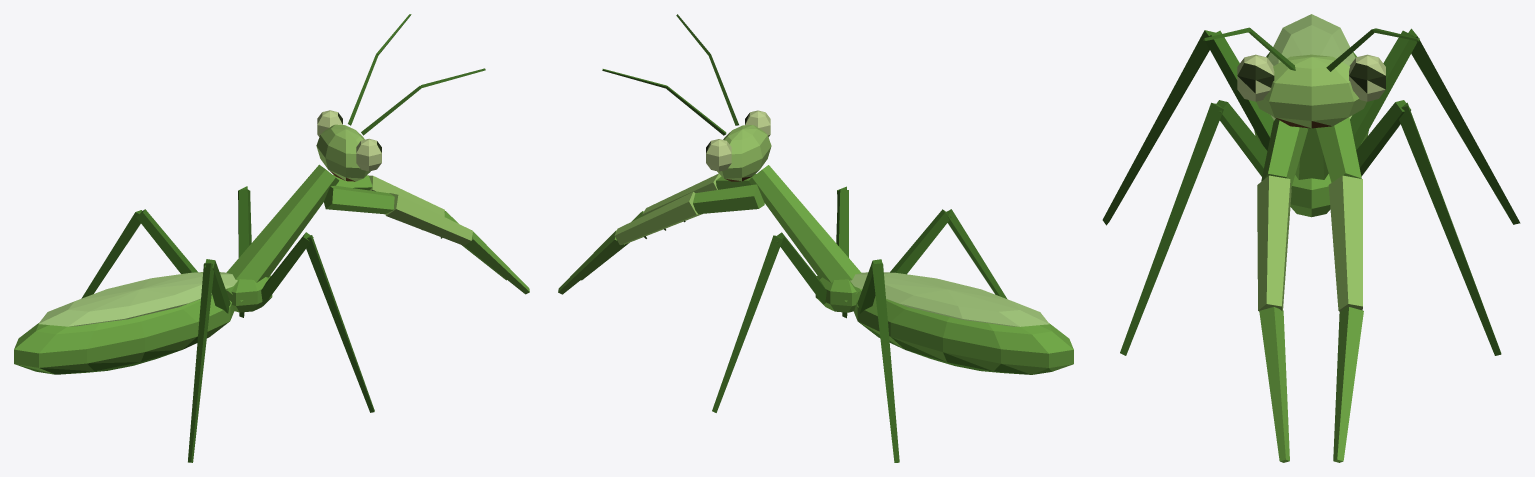
The model's file is bosses-the-praying-mantis-striking.glb.
The picture shows the model from 3 angles, left to right: view 1: azimuth 30°, elevation 25°; view 2: azimuth 150°, elevation 25°; view 3: azimuth 270°, elevation 25°; orthographic projection. The views are drawn at different scales.
Bounding box in the file's own units: 18.78 × 10.28 × 9.36.
